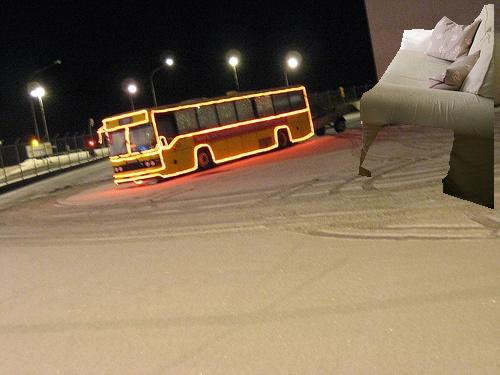tampered: (359, 5, 494, 209)
